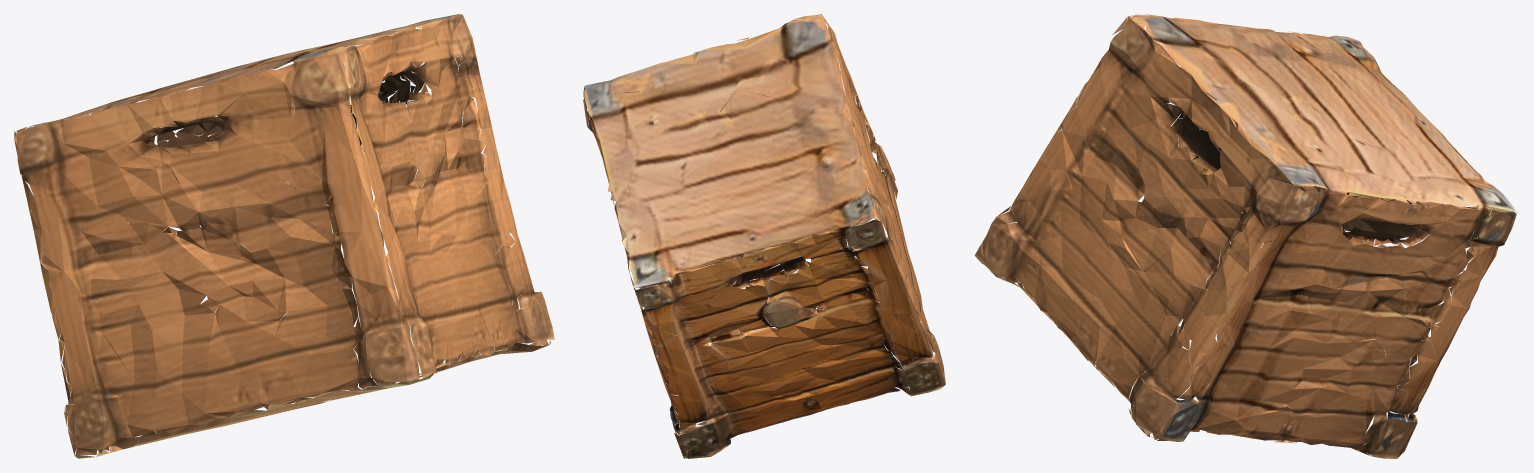
The model's file is crate.glb.
3 renders of one model, left to right at view 1: azimuth 30°, elevation 25°; view 2: azimuth 150°, elevation 25°; view 3: azimuth 270°, elevation 25°, orthographic. The views are drawn at different scales.
Parts seen in each view (by area): view 1: world; view 2: world; view 3: world.
Boxes of the visible parts, x1=… form: world: x1=14, y1=14, x2=554, y2=458; world: x1=583, y1=14, x2=945, y2=458; world: x1=974, y1=14, x2=1518, y2=458.
Size of the model in its own units: 0.9211 by 0.9339 by 1.07.
1 material, 1 textured.
